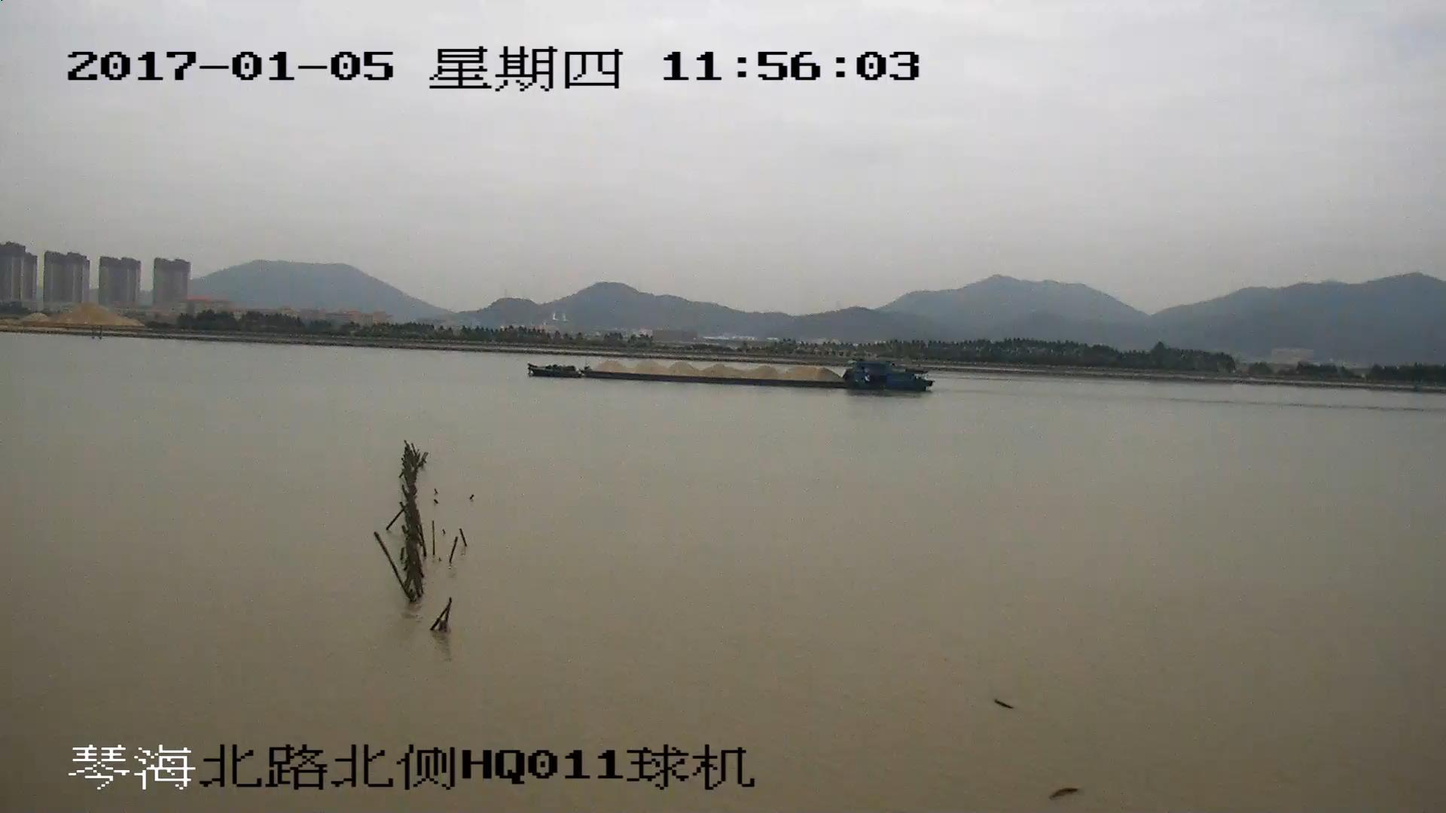ore carrier: (528, 359, 932, 395)
